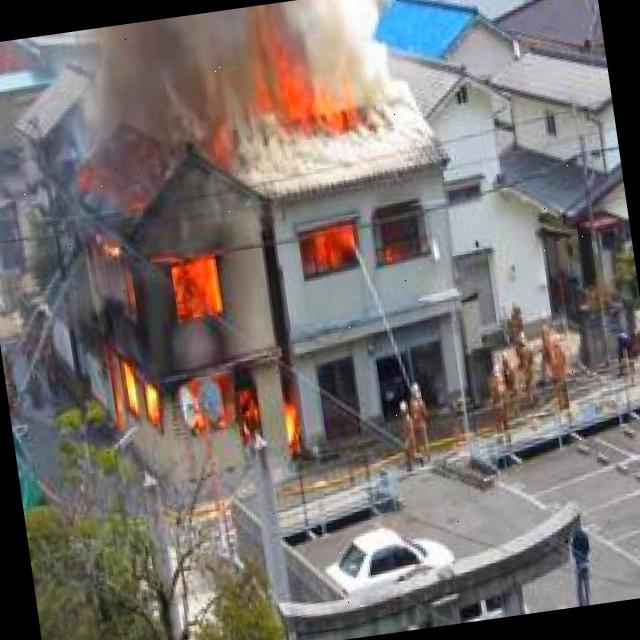fire: (81, 222, 307, 483), (222, 17, 376, 142), (296, 219, 417, 282)
